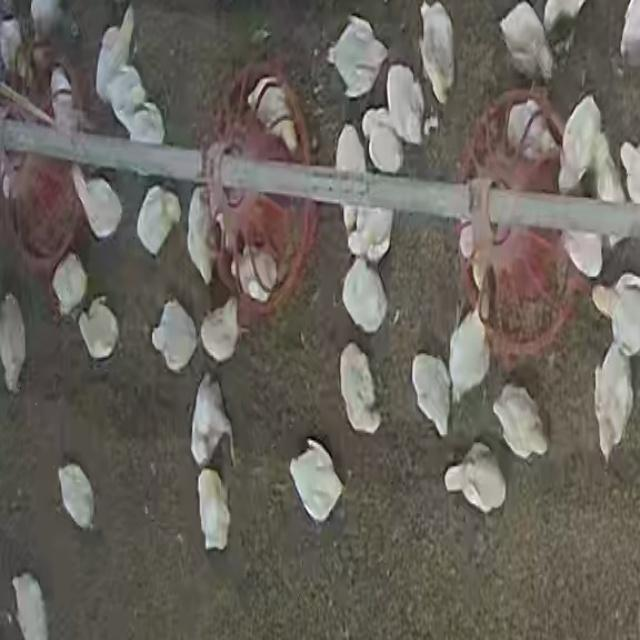chicken: (326, 14, 389, 101), (554, 96, 605, 196), (592, 344, 634, 460), (287, 439, 343, 525), (446, 304, 492, 408), (498, 1, 554, 85), (442, 442, 506, 514), (490, 384, 547, 461), (190, 375, 234, 474), (246, 77, 301, 155), (333, 125, 369, 238), (590, 137, 626, 247), (418, 1, 456, 103), (340, 256, 388, 336), (338, 343, 380, 434), (94, 5, 132, 102), (72, 170, 123, 242), (593, 273, 640, 350), (562, 188, 602, 277), (384, 62, 426, 146), (411, 354, 452, 439), (151, 300, 197, 374), (505, 97, 557, 161), (136, 185, 180, 257), (199, 297, 243, 367), (185, 188, 216, 284), (197, 468, 232, 551), (346, 204, 394, 263), (57, 461, 96, 532), (0, 294, 28, 392), (232, 248, 279, 304), (77, 294, 118, 358), (10, 574, 50, 638), (364, 110, 404, 173), (51, 252, 88, 318), (112, 66, 142, 140), (49, 66, 78, 136), (30, 0, 75, 45), (124, 101, 166, 149)
